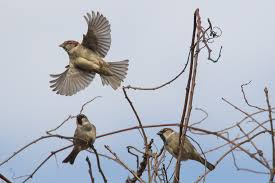hsparrow: (49, 7, 130, 99), (156, 127, 217, 171), (62, 114, 99, 166)
